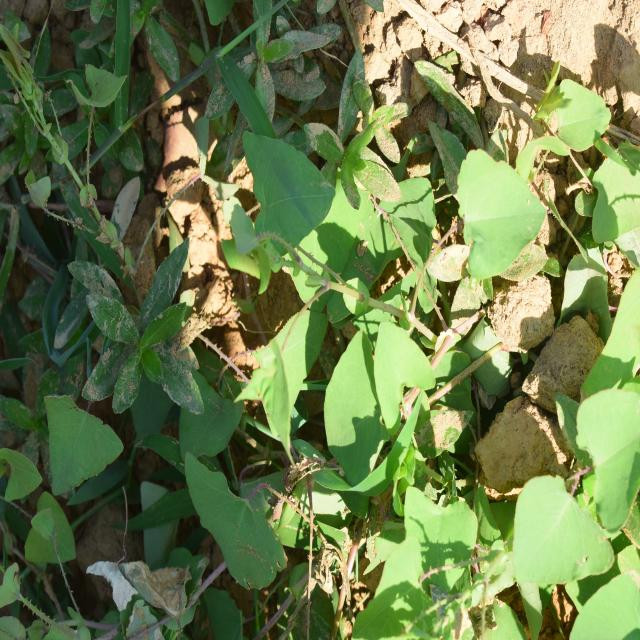Asiatic_Smartweed: (222, 129, 526, 443), (510, 358, 640, 636), (31, 382, 132, 537), (186, 465, 295, 601)
